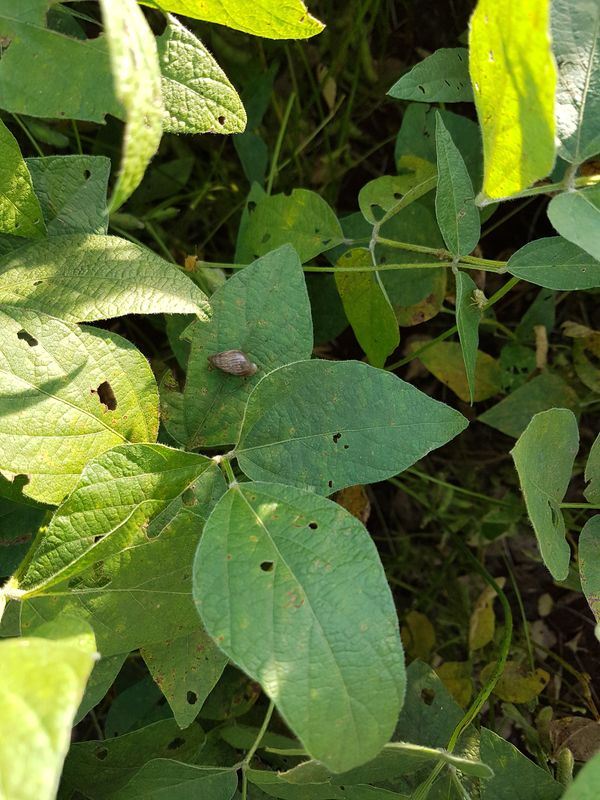Euschistus_heros_ninfa: (465, 285, 493, 313), (179, 250, 203, 275)
Gastropoda: (199, 339, 264, 393)
